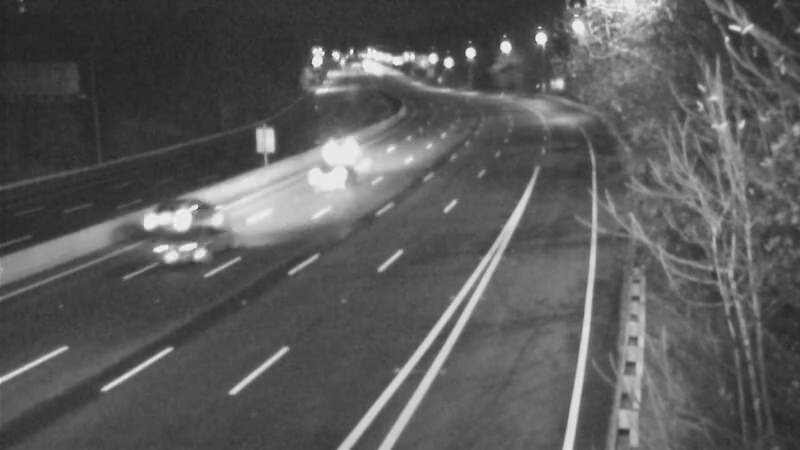vehicle: (290, 136, 370, 216), (129, 173, 209, 253), (145, 211, 225, 291), (315, 123, 365, 173)
